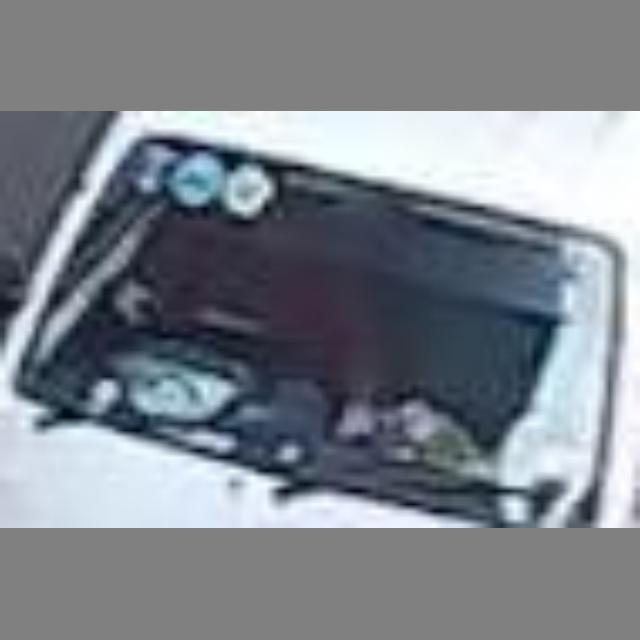tidak-pakai: (148, 165, 397, 421)
